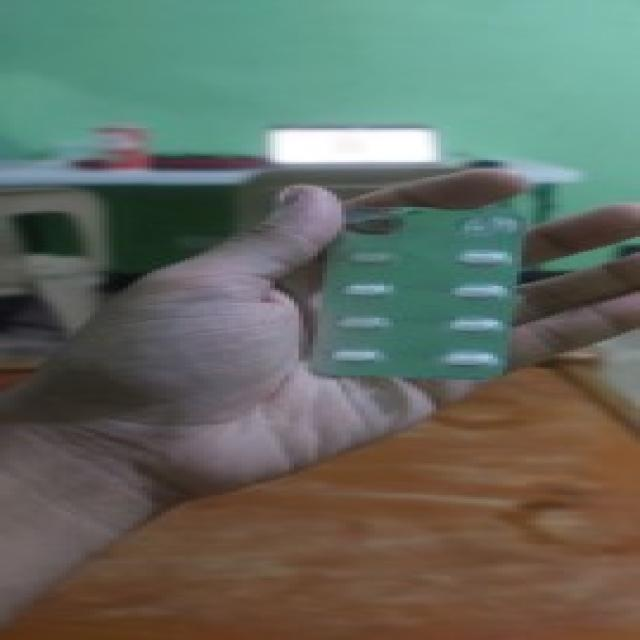Cacat: (304, 206, 526, 386)
Kemasan: (342, 212, 412, 239)
